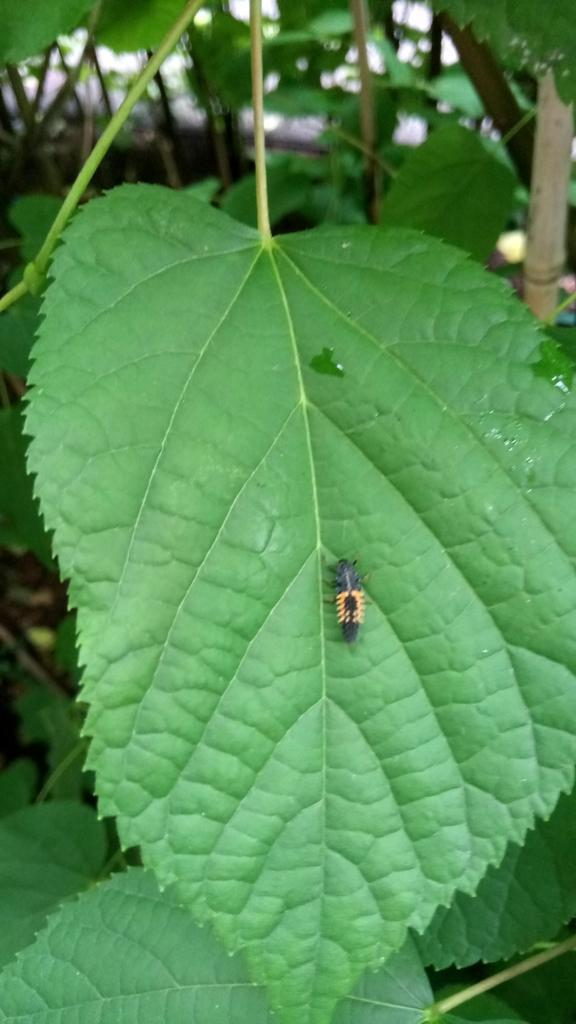ladybug: (323, 555, 371, 647)
